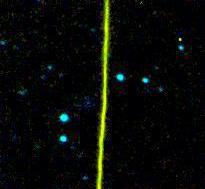star: (166, 26, 196, 56)
